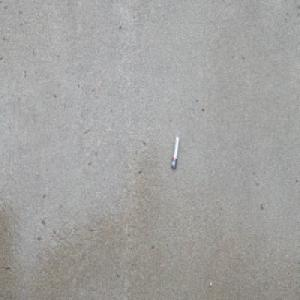Battery: (171, 135, 179, 170)
